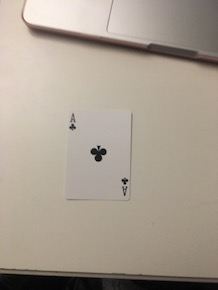AceOfClubs: (60, 107, 136, 205)
